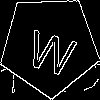W: (24, 20, 80, 78)
